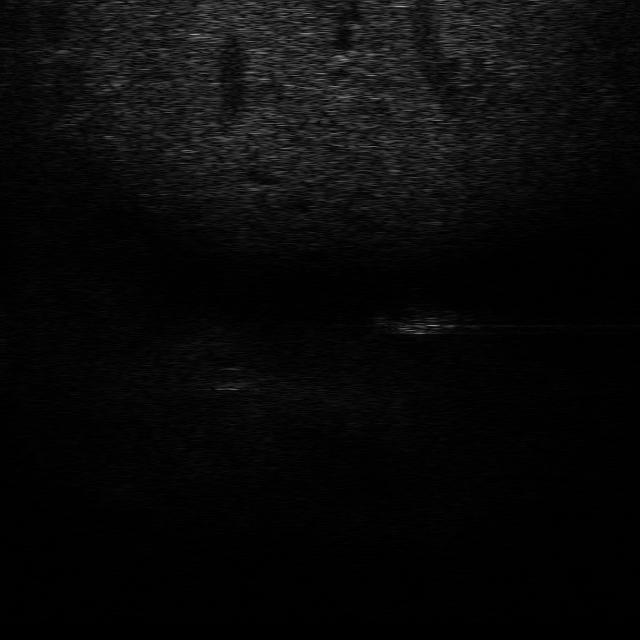ball: (206, 364, 252, 395)
human body: (352, 302, 473, 339)
